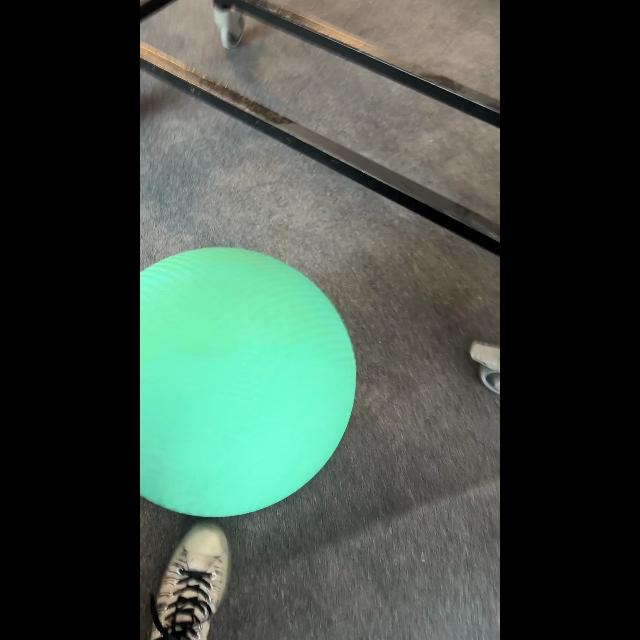ALGAE: (140, 246, 358, 518)
